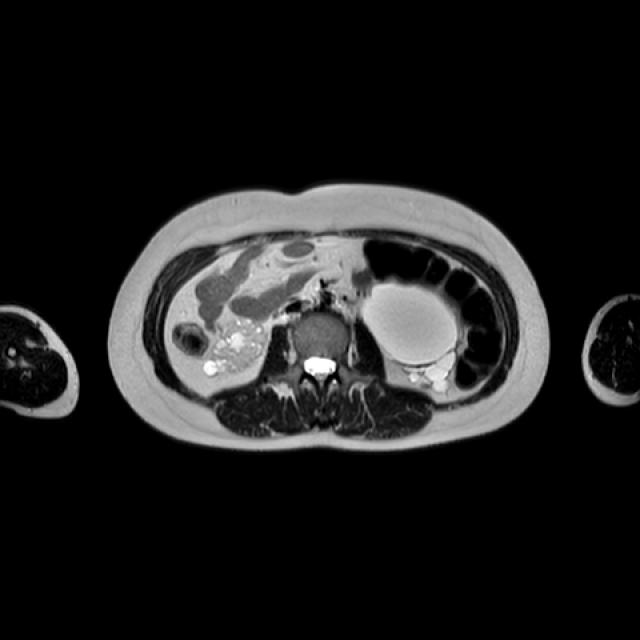sag: (203, 317, 267, 379)
sol: (362, 281, 458, 397)
